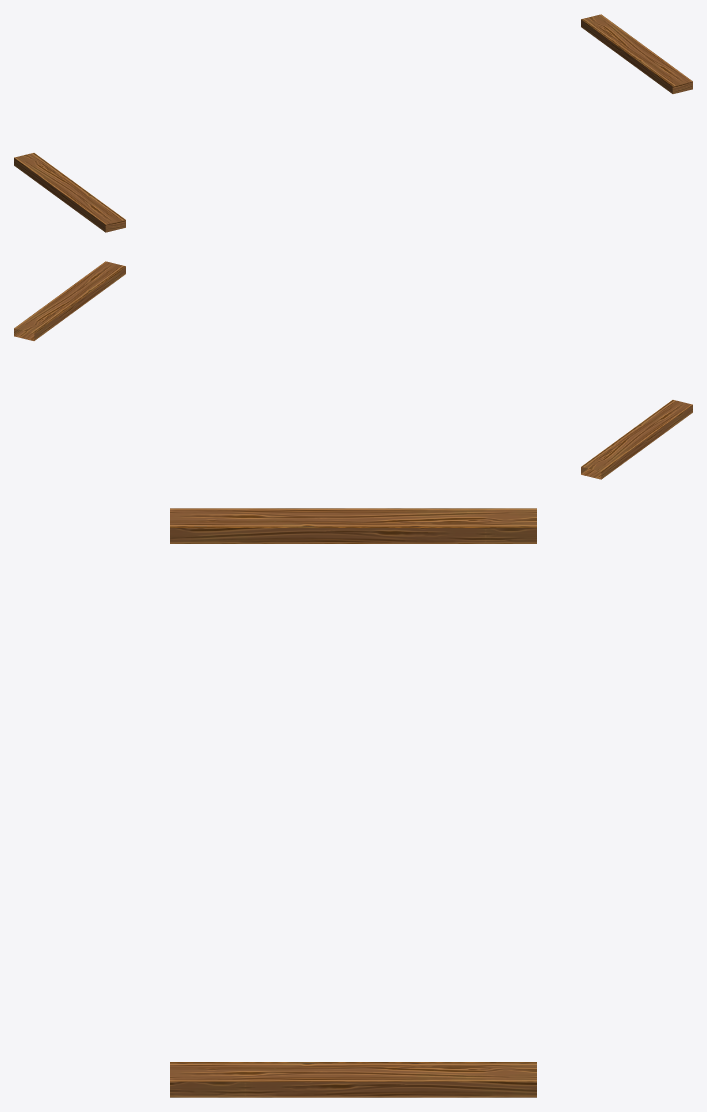
3 renders of one model, top to bottom at view 1: azimuth 30°, elevation 25°; view 2: azimuth 150°, elevation 25°; view 3: azimuth 270°, elevation 25°, orthographic. The views are drawn at different scales.
Parts seen in each view (by area): view 1: Cube.1526; view 2: Cube.1526; view 3: Cube.1526.
Part boxes in pixels (x1,y1,x2,y2): Cube.1526: (14,14,692,232); Cube.1526: (14,261,692,479); Cube.1526: (170,508,536,1097).
Bounding box in the file's own units: 831 × 10.79 × 225.
Materials: 1 (1 with a texture image).
